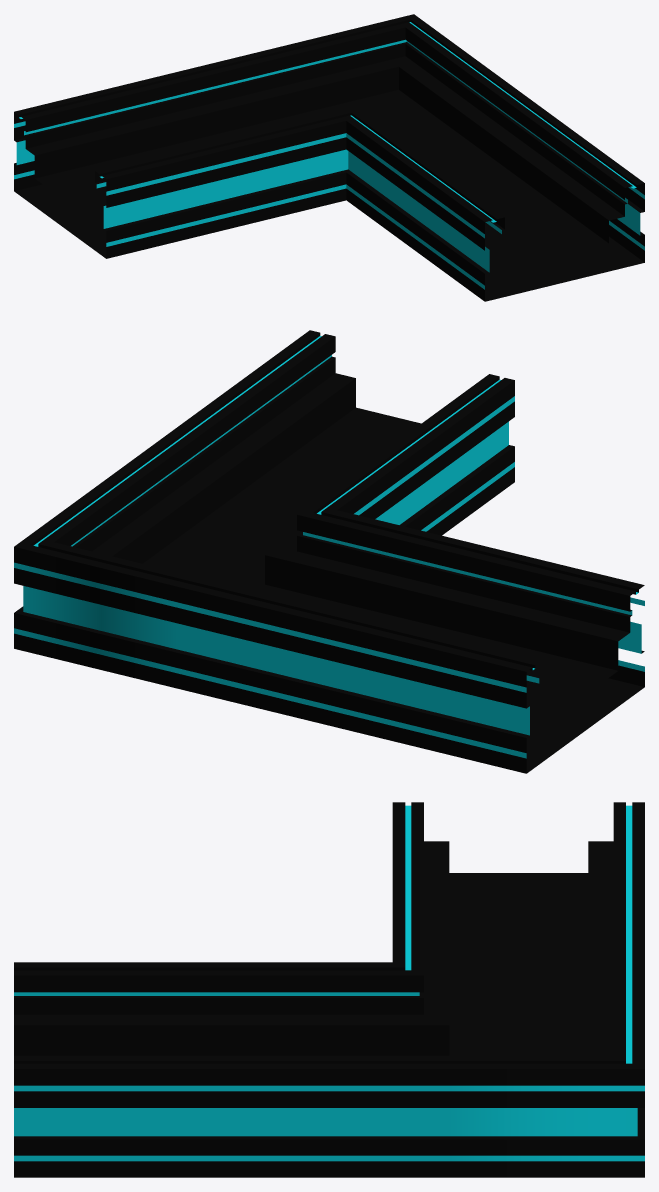
3 renders of one model, top to bottom at view 1: azimuth 30°, elevation 25°; view 2: azimuth 150°, elevation 25°; view 3: azimuth 270°, elevation 25°, orthographic. The views are drawn at different scales.
Parts seen in each view (by area): view 1: L; view 2: L; view 3: L.
Part boxes in pixels (x1,y1,x2,y2): L: (14,14,644,301); L: (14,330,644,773); L: (14,802,644,1177).
Bounding box in the file's own units: 12.5 × 2.38 × 12.5.
